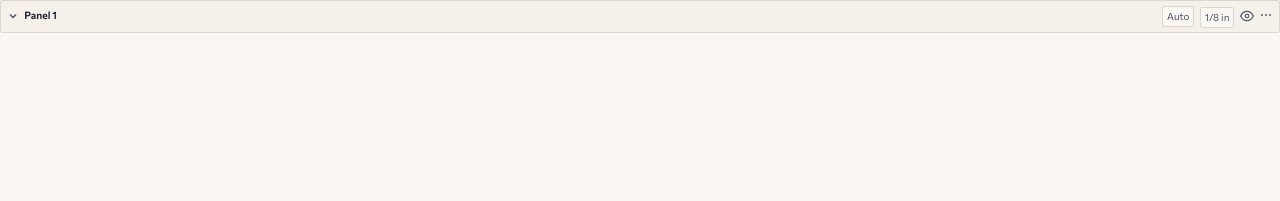
Test: PanelHeader (P5 — ⋯ options menu, trash removed) › Rename menu item enters the inline rename edit mode (name input appears)
What coordinates should you click on to do the following:
click the button named "Panel options"
I would click on:
 (1266, 14)
Its box is [1259, 8, 1273, 22].
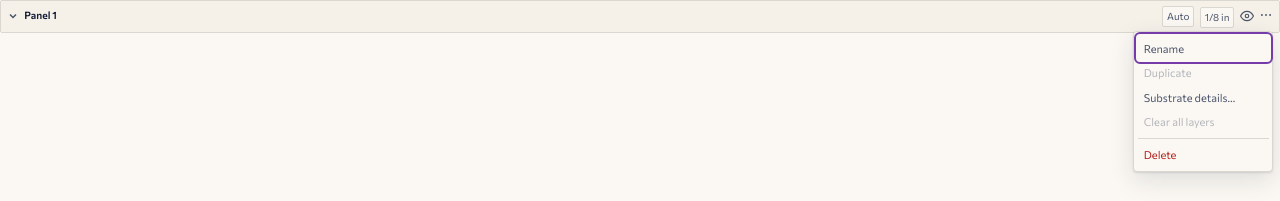
What coordinates should you click on to do the following:
click the menu item "Rename"
I would click on:
 (1164, 48)
Its box is [1144, 42, 1184, 55].
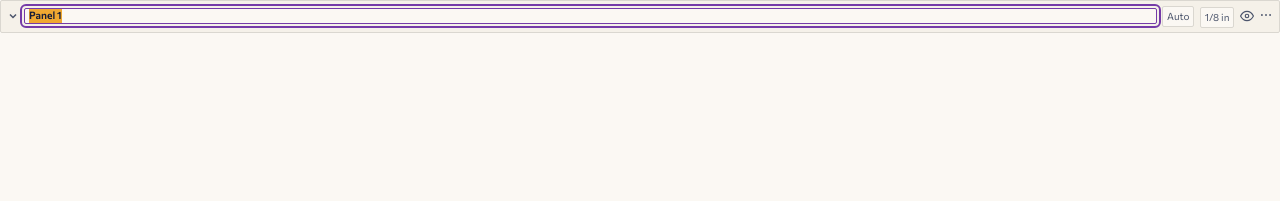
Now the field named "Panel name" is shown, box [24, 8, 1157, 24]
